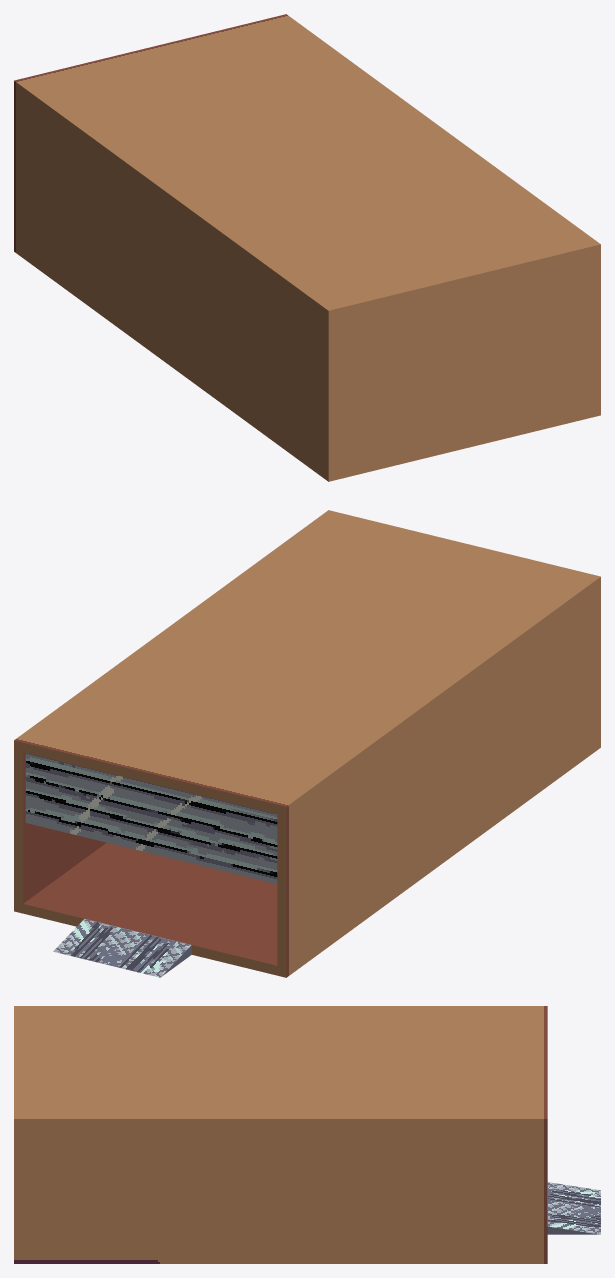
The model's file is Garage.glb.
3 views of the same model, one above another, from view 1: azimuth 30°, elevation 25°; view 2: azimuth 150°, elevation 25°; view 3: azimuth 270°, elevation 25° (orthographic). The views are drawn at different scales.
Parts seen in each view (by area): view 1: Cube.005; view 2: Cube.005; view 3: Cube.005.
Part boxes in pixels (bbox=[...]): Cube.005: bbox=[14, 14, 600, 481]; Cube.005: bbox=[14, 510, 600, 977]; Cube.005: bbox=[14, 1006, 600, 1263].
Size of the model in its own units: 10 by 6 by 22.
Materials: 1 (1 with a texture image).
